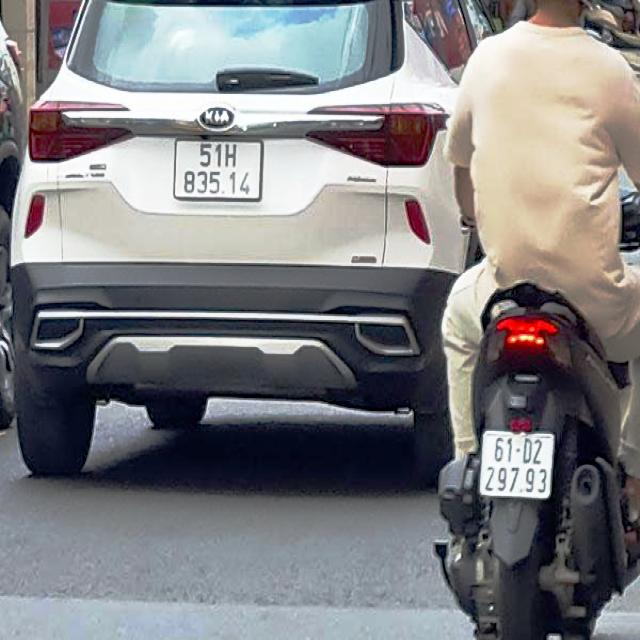license_plate: (175, 141, 262, 202), (484, 434, 552, 500)
